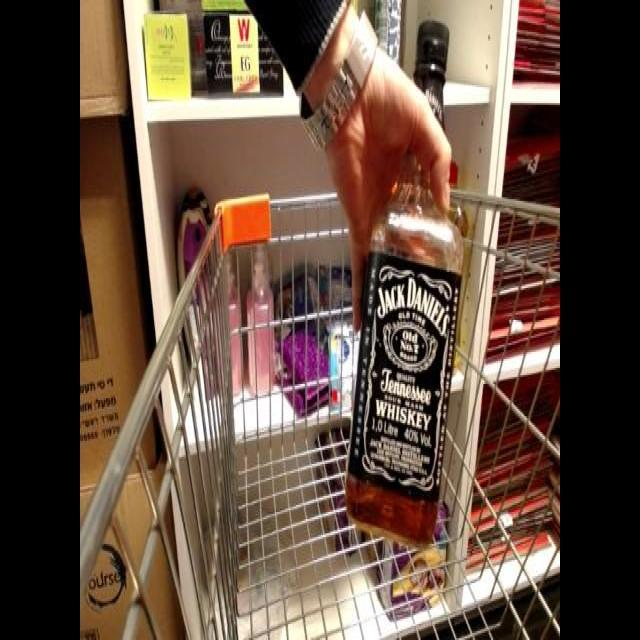Jack Daniels: (331, 19, 485, 552)
